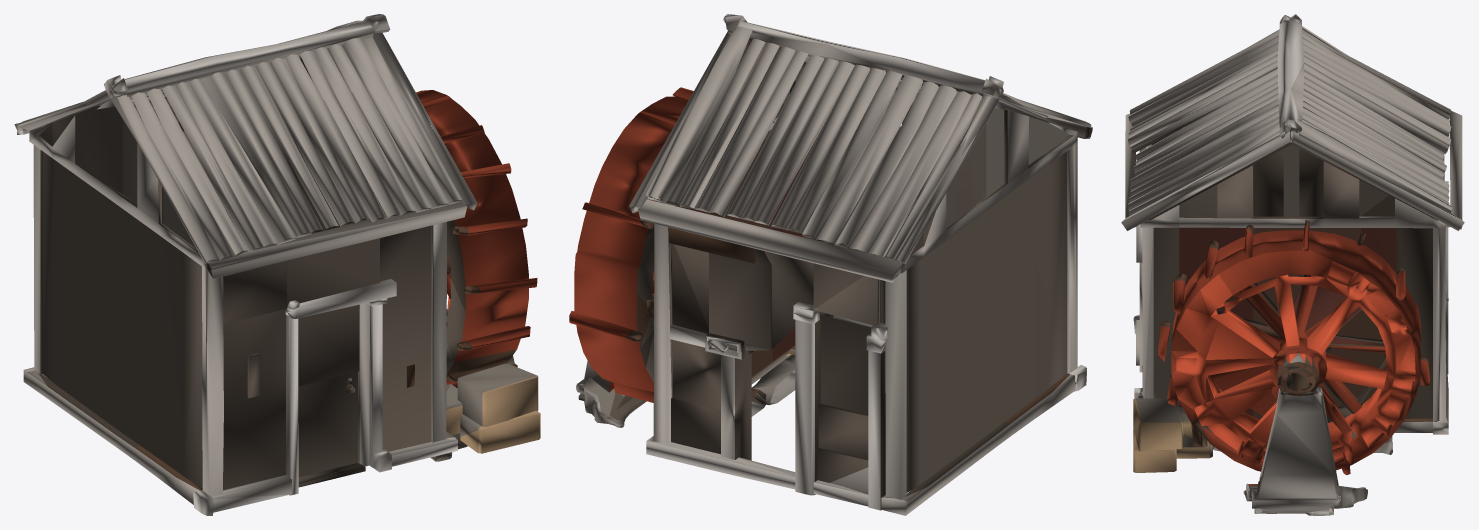
The model's file is sluice_shed_a_tripo.glb.
3 views of the same model, side by side, from view 1: azimuth 30°, elevation 25°; view 2: azimuth 150°, elevation 25°; view 3: azimuth 270°, elevation 25° (orthographic). The views are drawn at different scales.
Visible parts, largest first — view 1: Surface; view 2: Surface; view 3: Surface.
Part boxes in pixels (box(x1,y1,x2,y2)): Surface: box(14, 14, 540, 515); Surface: box(569, 14, 1092, 515); Surface: box(1121, 14, 1464, 515).
Size of the model in its own units: 5.93 by 5.65 by 5.2.
